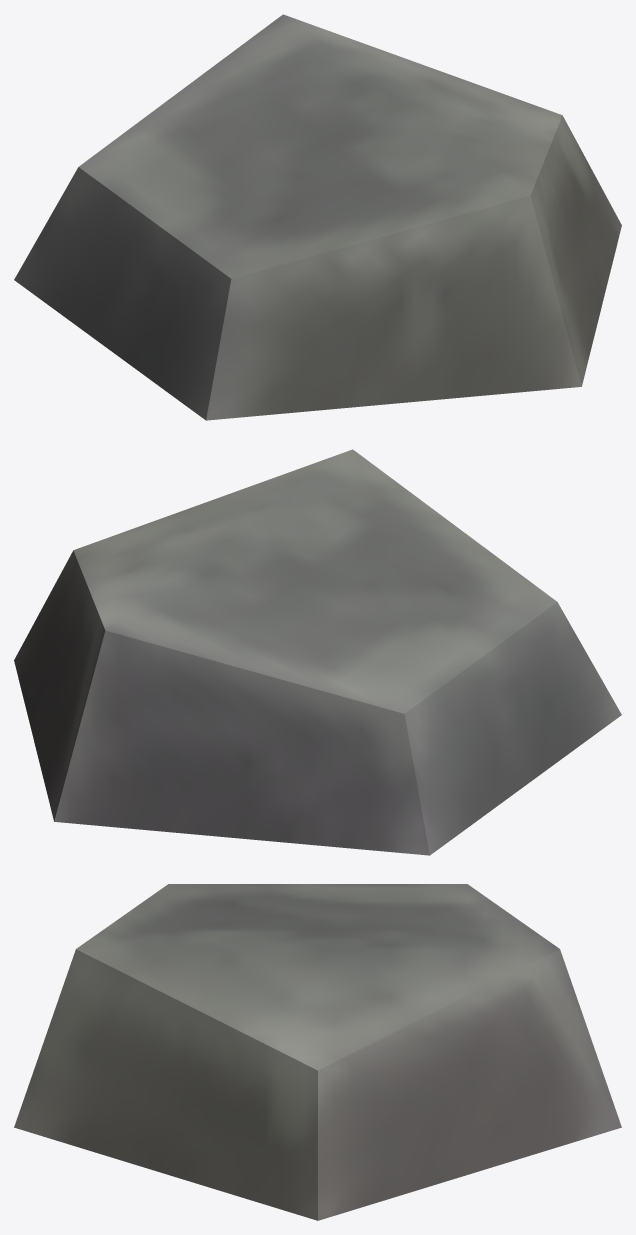
The model's file is stone04.fbx.
3 views of the same model, one above another, from view 1: azimuth 30°, elevation 25°; view 2: azimuth 150°, elevation 25°; view 3: azimuth 270°, elevation 25° (orthographic). The views are drawn at different scales.
Visible parts, largest first — view 1: stone04; view 2: stone04; view 3: stone04.
Part boxes in pixels (box(x1,y1,x2,y2)): stone04: box(14, 14, 621, 420); stone04: box(14, 449, 621, 855); stone04: box(14, 884, 621, 1220).
Bounding box in the file's own units: 30.79 × 9.94 × 32.37.
